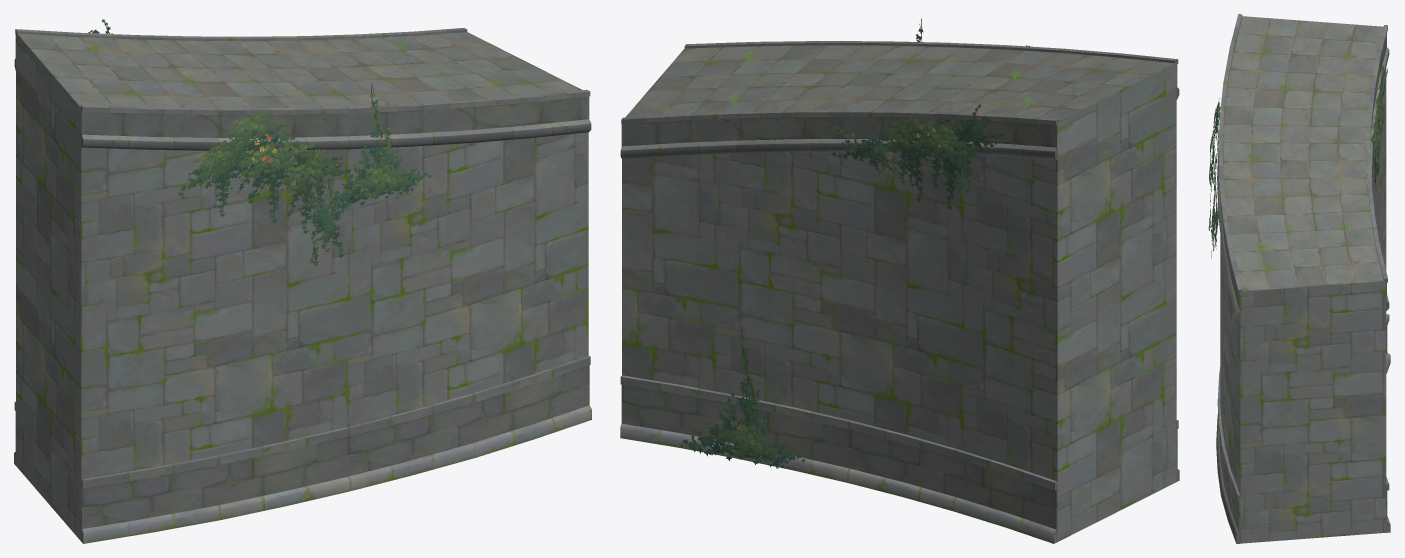
The model's file is Area_MdBuild_SdWall02_26_Group.fbx.
The picture shows the model from 3 angles, left to right: view 1: azimuth 30°, elevation 25°; view 2: azimuth 150°, elevation 25°; view 3: azimuth 270°, elevation 25°; orthographic projection. The views are drawn at different scales.
Parts seen in each view (by area): view 1: Area_MdBuild_SdWall02_26_Lod0, Stages_LYLvy06_Vo (1), Stages_LYLvy07_Vo (1), Stages_LYLvy09_Vo (1); view 2: Area_MdBuild_SdWall02_26_Lod0, Stages_LYLvy08_Vo (1), Stages_LYLvy07_Vo (2), Stages_LYLvy09_Vo (2), Stages_LYLvy09_Vo (3); view 3: Area_MdBuild_SdWall02_26_Lod0, Stages_LYLvy06_Vo (1), Stages_LYLvy08_Vo (1), Stages_LYLvy07_Vo (1).
Boxes of the visible parts, x1,y1,x2,y2 form: Area_MdBuild_SdWall02_26_Lod0: (14,28,591,543); Stages_LYLvy06_Vo (1): (178,112,353,233); Stages_LYLvy07_Vo (1): (317,82,431,211); Stages_LYLvy09_Vo (1): (297,182,345,265); Area_MdBuild_SdWall02_26_Lod0: (620,41,1179,543); Stages_LYLvy08_Vo (1): (879,116,977,209); Stages_LYLvy07_Vo (2): (681,326,805,468); Stages_LYLvy09_Vo (2): (831,125,906,172); Stages_LYLvy09_Vo (3): (935,104,1003,152); Area_MdBuild_SdWall02_26_Lod0: (1216,14,1390,543); Stages_LYLvy06_Vo (1): (1209,98,1220,206); Stages_LYLvy08_Vo (1): (1371,98,1384,173); Stages_LYLvy07_Vo (1): (1212,153,1219,248).
Bounding box in the file's own units: 24.56 × 20.68 × 9.83.
Materials: 6 (6 with a texture image).
